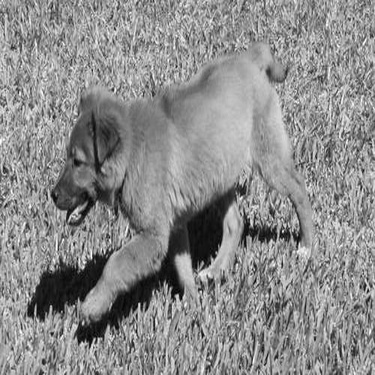dog: (45, 33, 323, 335)
